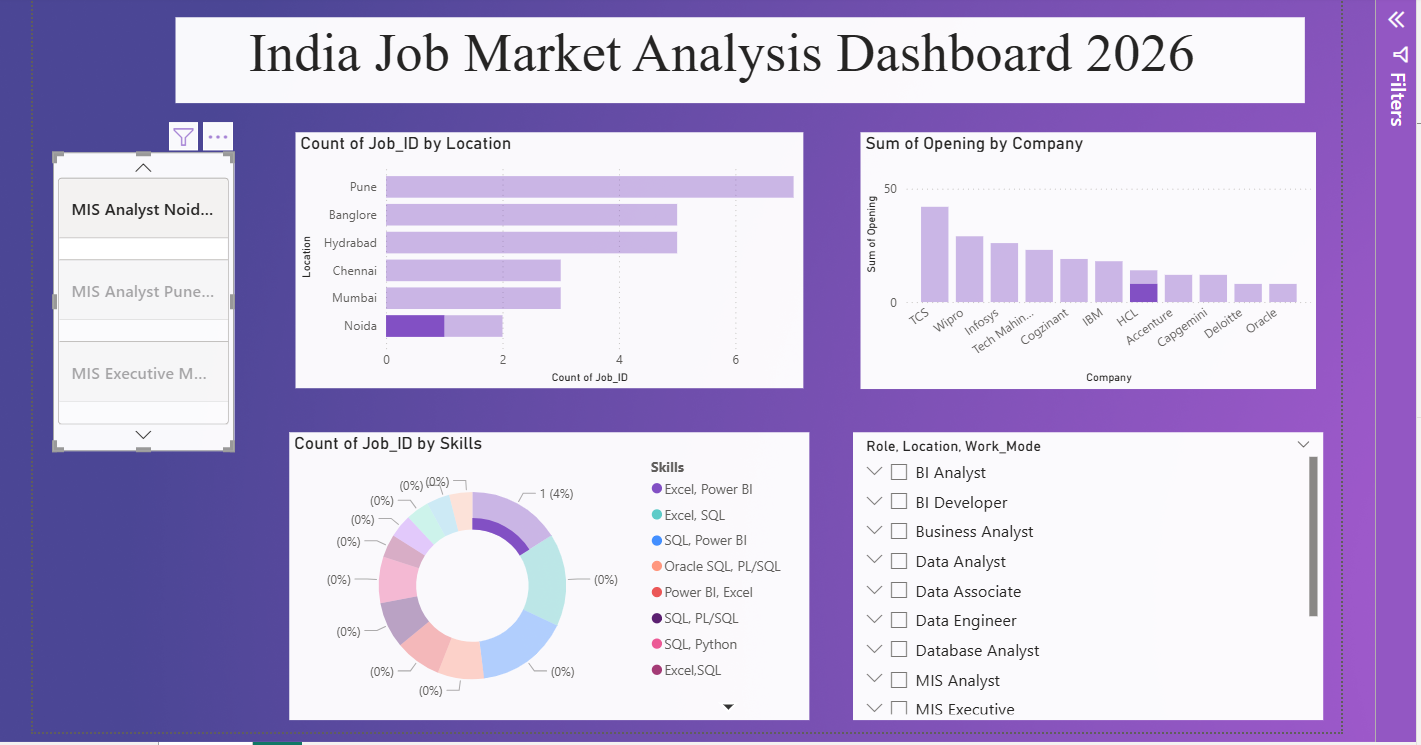

The page's visual inventory and layout, read from the dashboard file:
{"tool":"powerbi","page":{"name":"Page 1","canvas":[1280,720],"ordinal":0},"visuals":[{"type":"cardVisual","fields":{"Data":["Sum(Sheet1.Salary_LPA)","Sum(Sheet1.Opening)","CountNonNull(Sheet1.Job_ID)","Sheet1.Average Salary"],"Rows":["Sheet1.Role","Sheet1.Location","Sheet1.Skills","Sheet1.Role","Sheet1.Experience","Sheet1.Company","Sheet1.Work_Mode"]},"box":[0,237.2,212.8,292.3],"z":0},{"type":"clusteredBarChart","fields":{"Category":["Sheet1.Location"],"Y":["CountNonNull(Sheet1.Job_ID)"]},"box":[256.8,133.3,496.5,250.7],"z":1000},{"type":"donutChart","fields":{"Category":["Sheet1.Skills"],"Y":["CountNonNull(Sheet1.Job_ID)"]},"box":[250.7,426.8,508.7,281.3],"z":2000},{"type":"columnChart","fields":{"Category":["Sheet1.Company"],"Y":["Sum(Sheet1.Opening)"]},"box":[809.6,133.1,446,251.1],"z":3000},{"type":"slicer","fields":{"Values":["Sheet1.Company","Sheet1.Experience","Sheet1.Job_ID","Sheet1.Location","Sheet1.Opening","Sheet1.Role","Sheet1.Salary_LPA","Sheet1.Skills","Sheet1.Work_Mode"]},"box":[802.2,426.8,459.8,281.3],"z":4000},{"type":"textbox","box":[140,20.6,1104.6,83.7],"z":5000}]}

Visuals, with their boxes in screenshot pixels (x1, y1, x2, y2):
cardVisual - Sum(Sheet1.Salary_LPA) x Sum(Sheet1.Opening): bbox(33, 234, 250, 532)
clusteredBarChart - Sheet1.Location x CountNonNull(Sheet1.Job_ID): bbox(295, 128, 801, 384)
donutChart - Sheet1.Skills x CountNonNull(Sheet1.Job_ID): bbox(289, 427, 807, 714)
columnChart - Sheet1.Company x Sum(Sheet1.Opening): bbox(858, 128, 1312, 384)
slicer - Sheet1.Company x Sheet1.Experience: bbox(851, 427, 1319, 714)
textbox: bbox(176, 14, 1301, 99)
